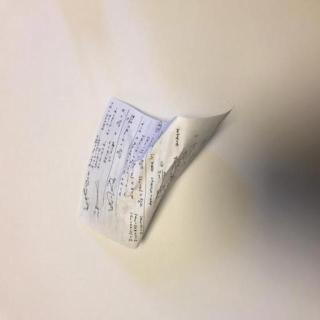Anorganik: (74, 93, 236, 251)
